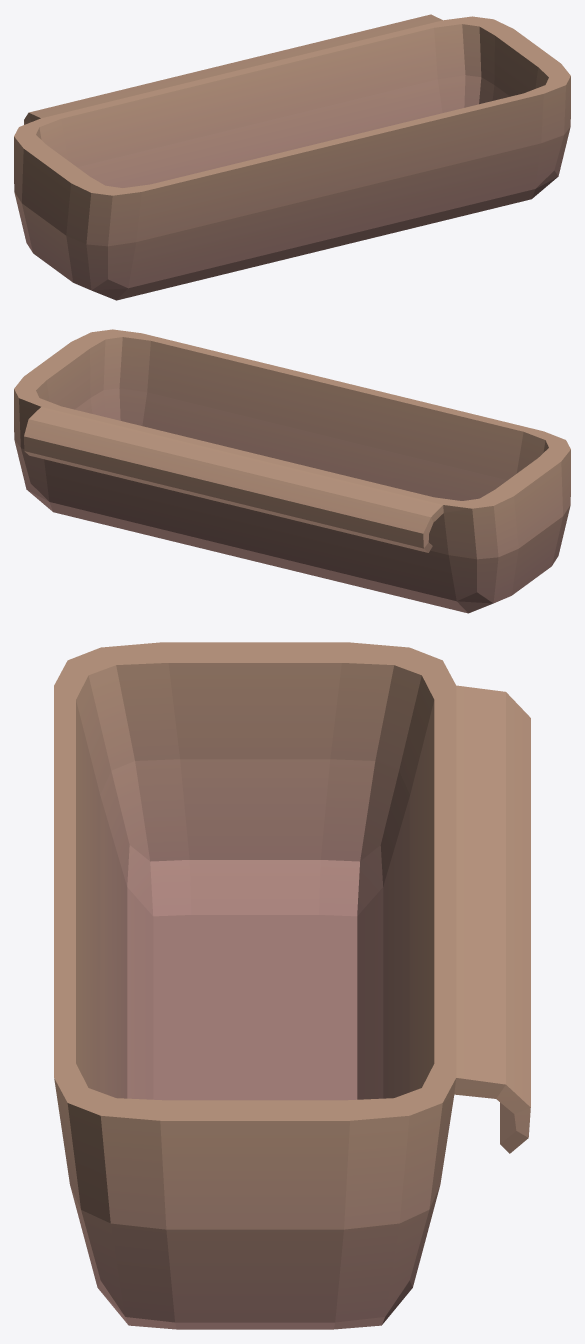
Rendered from PlantPot_34.fbx.
3 renders of one model, top to bottom at view 1: azimuth 30°, elevation 25°; view 2: azimuth 150°, elevation 25°; view 3: azimuth 270°, elevation 25°, orthographic. The views are drawn at different scales.
Parts seen in each view (by area): view 1: PlantPot_34; view 2: PlantPot_34; view 3: PlantPot_34.
Part boxes in pixels (box(x1,y1,x2,y2)): PlantPot_34: box(14, 14, 570, 300); PlantPot_34: box(14, 329, 570, 613); PlantPot_34: box(54, 642, 530, 1329).
Bounding box in the file's own units: 91.11 × 21.14 × 37.85.
